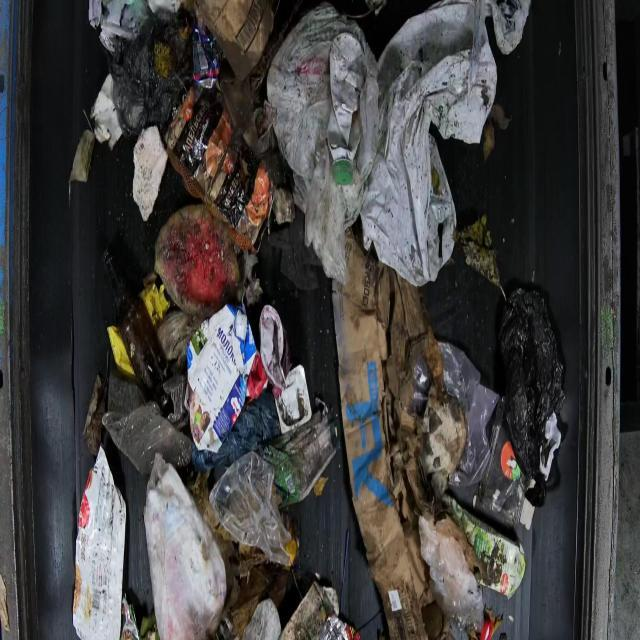other-trash: (67, 0, 563, 638)
